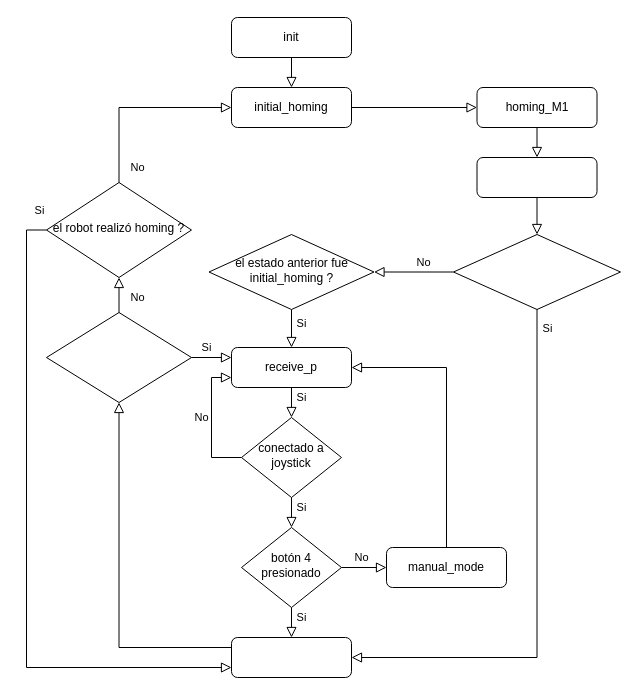
Some shapes in this 638 by 695 pixel diagram are drawn without their labels. The shapes that lost their labels are listed below. From the top down, each one's centre as x and y in pixels, then its label:
[536,177]: homing_M2
[536,272]: el estado anterior fue automatic_mode ?
[119,357]: el robot terminó la trayectoria deseada ?
[291,657]: automatic_mode
